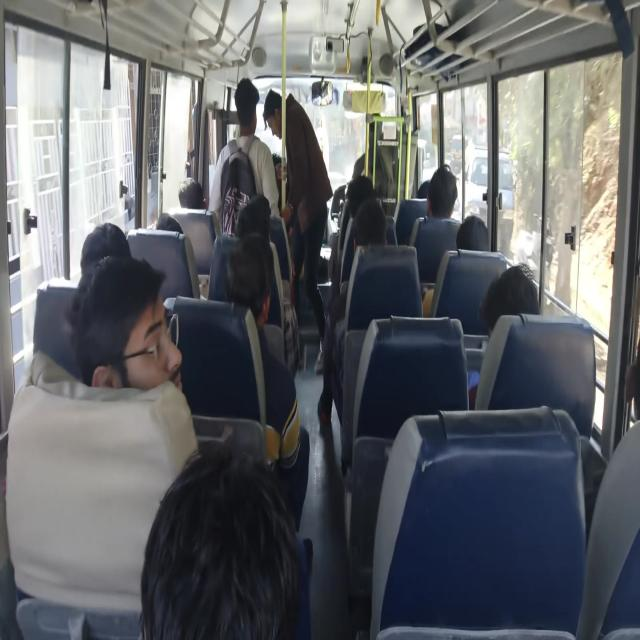person: (6, 252, 199, 638), (139, 438, 312, 638), (224, 232, 310, 531), (262, 88, 333, 374), (316, 198, 388, 424), (66, 254, 182, 392), (207, 77, 280, 236), (467, 262, 540, 409), (422, 214, 489, 316), (328, 174, 374, 290), (479, 262, 540, 337), (352, 124, 394, 196), (80, 222, 131, 274), (426, 164, 459, 220), (456, 214, 489, 251), (178, 177, 206, 209)
